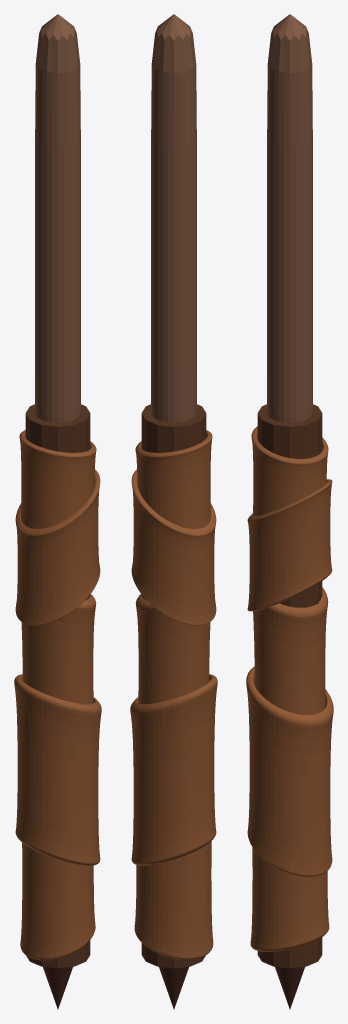
Rendered from Wand 312.glb.
3 views of the same model, side by side, from view 1: azimuth 30°, elevation 25°; view 2: azimuth 150°, elevation 25°; view 3: azimuth 330°, elevation 25° (orthographic).
Parts seen in each view (by area): view 1: GeneratedWand; view 2: GeneratedWand; view 3: GeneratedWand.
Boxes of the visible parts, bbox=[...] form: GeneratedWand: bbox=[14, 14, 101, 1009]; GeneratedWand: bbox=[130, 14, 217, 1009]; GeneratedWand: bbox=[246, 14, 333, 1009].
Size of the model in its own units: 0.0408 by 0.5121 by 0.0408.
